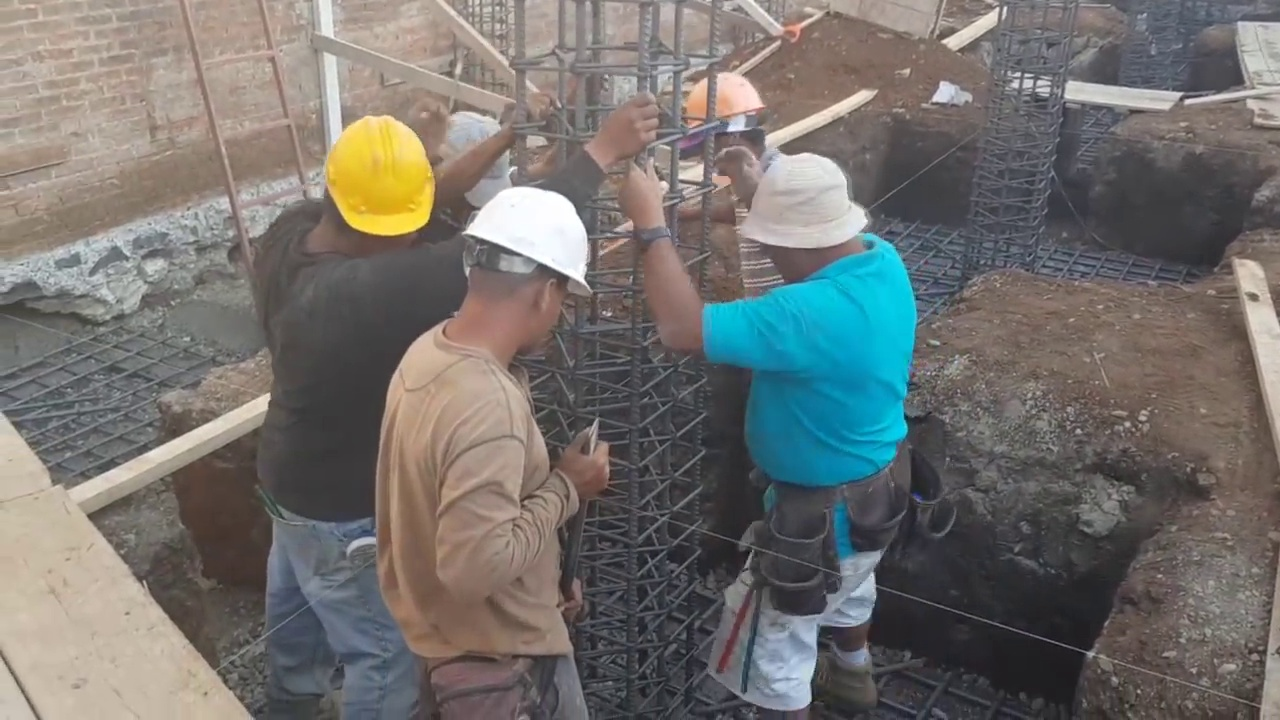helmet: (464, 178, 594, 296), (319, 112, 436, 237), (680, 70, 769, 135)
helmet-off: (738, 150, 880, 291), (435, 111, 510, 236)
helmet-on: (436, 178, 595, 360), (300, 108, 438, 260), (680, 64, 771, 168)
person: (256, 93, 661, 717), (618, 149, 919, 717), (373, 179, 612, 717), (681, 60, 783, 584)
